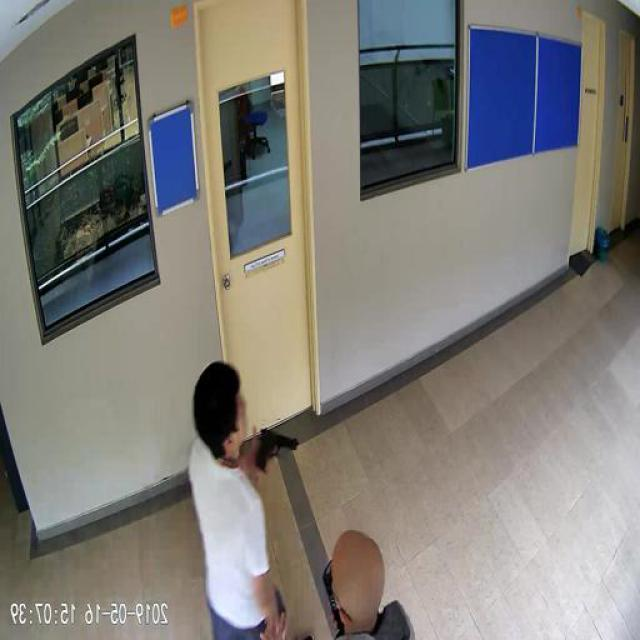Gun: (255, 425, 300, 470)
